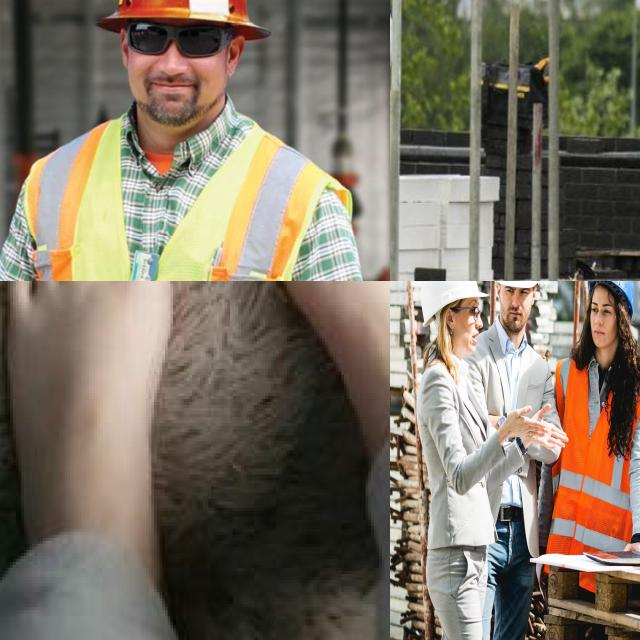Barefoots: (231, 281, 390, 511)
No_Ear-Protection: (441, 306, 458, 331), (530, 284, 538, 307), (495, 281, 503, 302)
No_Glasses: (587, 298, 617, 320), (500, 283, 532, 300)
face_nomask: (108, 17, 233, 132), (443, 294, 478, 360), (584, 286, 619, 346), (497, 284, 537, 333)
glasses: (121, 16, 229, 60), (467, 302, 483, 322)
hand_noglove: (532, 396, 572, 464), (499, 402, 549, 452)
head_helmet: (89, 0, 273, 31), (420, 281, 489, 326), (588, 281, 635, 316)
person: (0, 0, 352, 281), (480, 281, 559, 640), (410, 281, 488, 640), (555, 281, 640, 563)
vest: (33, 117, 302, 281), (552, 352, 638, 552)
